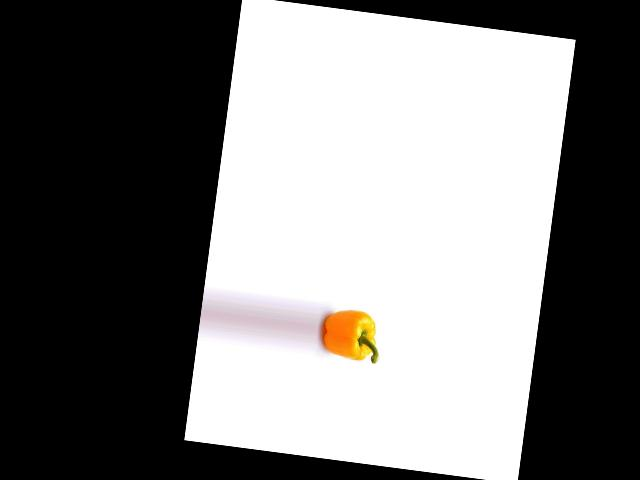bell_pepper: (319, 302, 382, 365)
